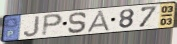7: (139, 6, 159, 29)
8: (119, 8, 136, 29)
A: (85, 9, 112, 33)
J: (22, 14, 41, 38)
P: (41, 13, 65, 38)
S: (67, 12, 88, 34)
